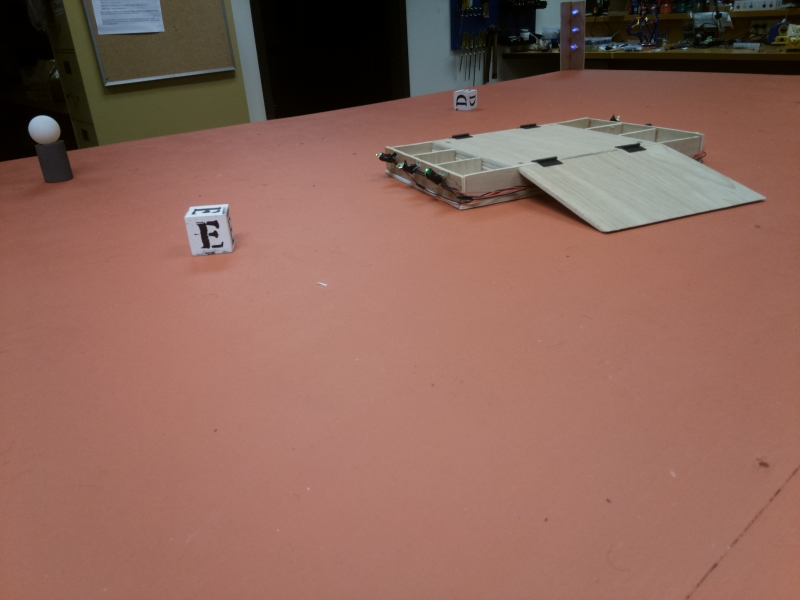blockD: (450, 88, 483, 112)
blockE: (178, 206, 238, 258)
obstacle: (25, 114, 76, 182)
side: (365, 144, 466, 213), (582, 110, 708, 136)
slope: (507, 144, 768, 230), (420, 121, 550, 140)
